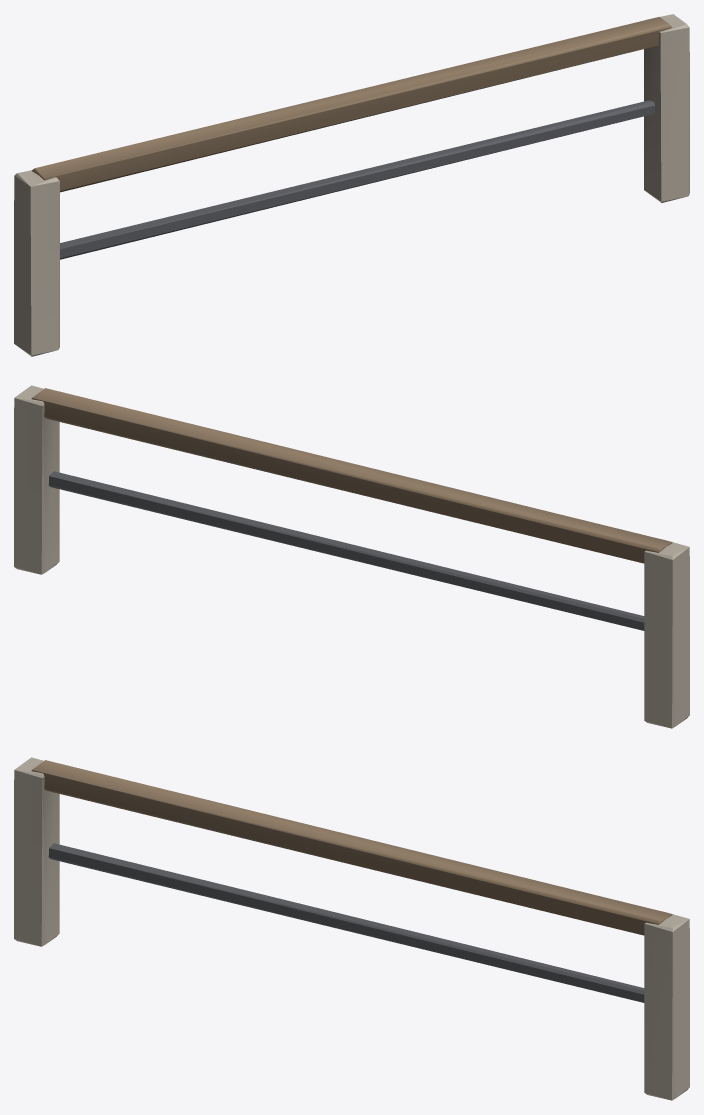
The model's file is rail_waterfront_low.glb.
The picture shows the model from 3 angles, top to bottom: view 1: azimuth 30°, elevation 25°; view 2: azimuth 150°, elevation 25°; view 3: azimuth 330°, elevation 25°; orthographic projection.
Size of the model in its own units: 4.2 by 1.07 by 0.1893.
